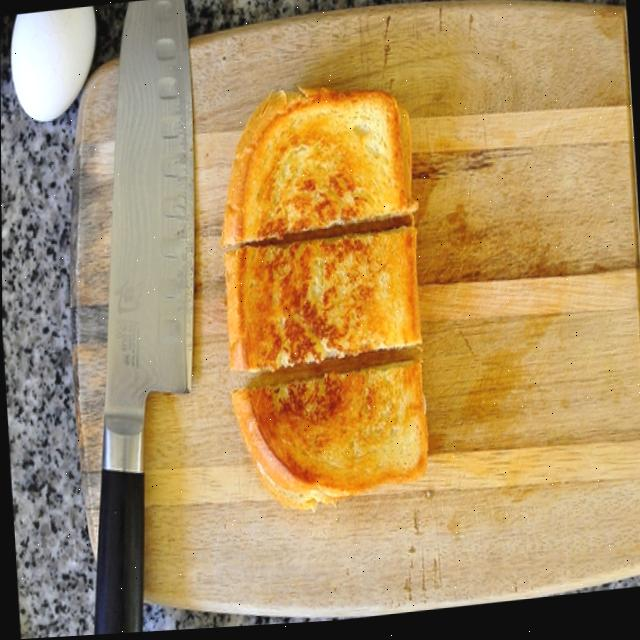面包点心: (207, 57, 452, 535)
